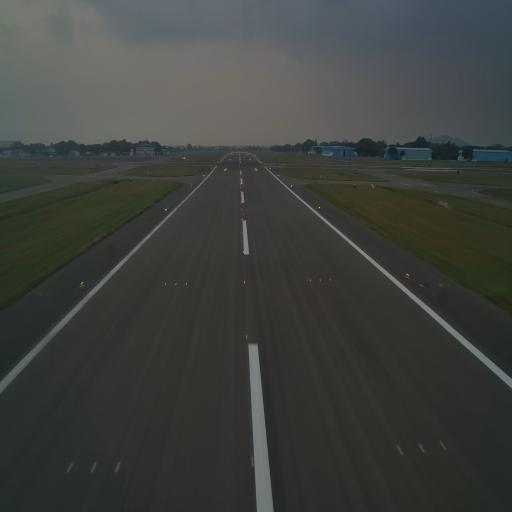on: (250, 454, 256, 468), (244, 330, 250, 342), (405, 269, 410, 279), (174, 280, 178, 288), (184, 279, 188, 287), (328, 276, 332, 284), (164, 281, 168, 288), (242, 279, 246, 286), (80, 280, 84, 286), (308, 278, 312, 284), (319, 277, 322, 285)
